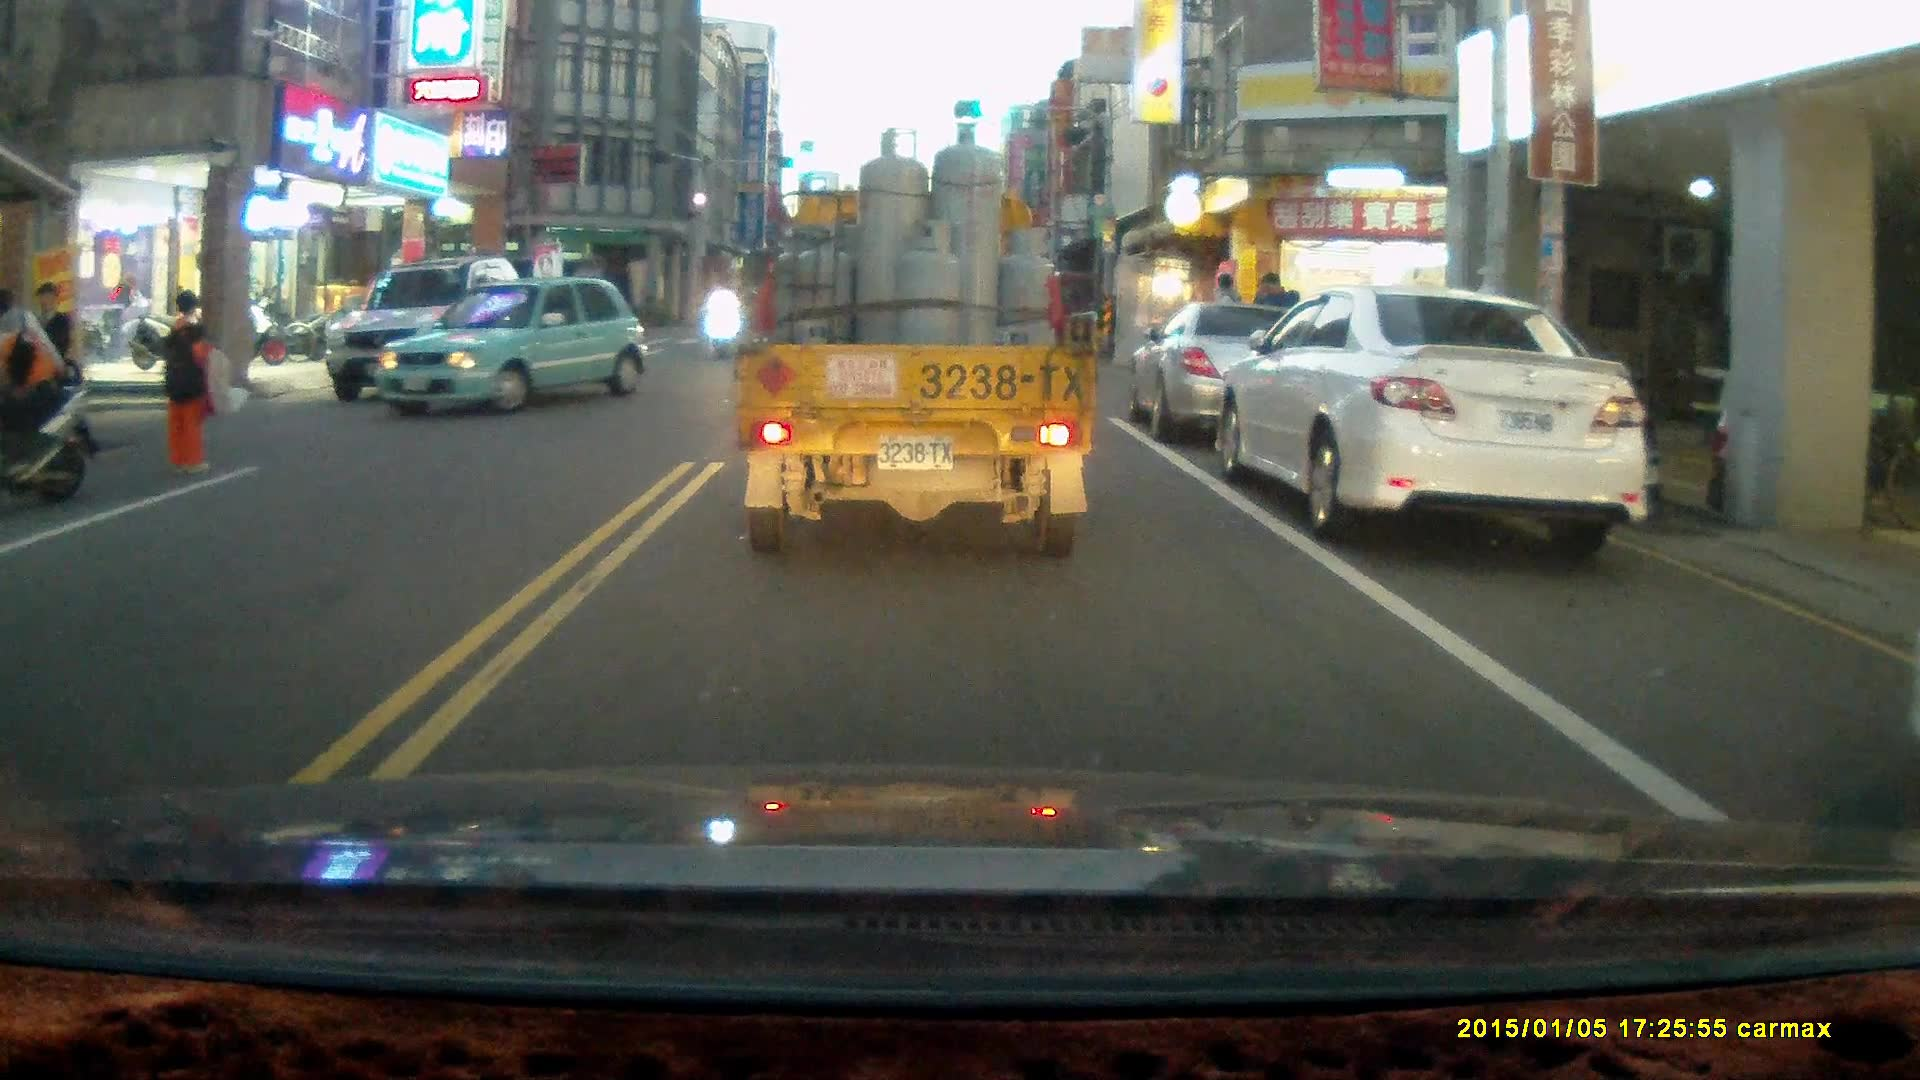pedestrian: (156, 288, 236, 475), (24, 282, 74, 442)
rider: (706, 280, 736, 359)
vehicle: (731, 122, 1095, 562), (1211, 282, 1653, 557), (1131, 298, 1405, 449), (376, 277, 650, 419), (327, 257, 534, 393)
